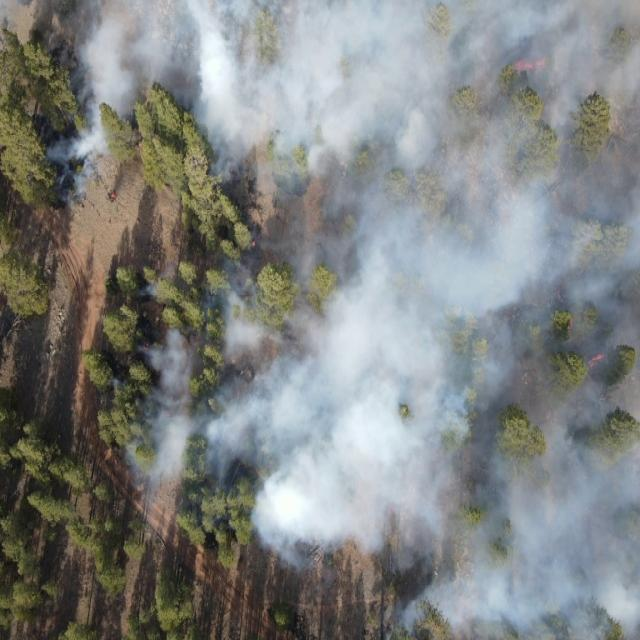fire: (514, 59, 549, 70), (588, 351, 604, 368), (108, 188, 118, 204), (567, 312, 575, 331), (250, 240, 258, 250)
smoke: (381, 0, 640, 640), (248, 183, 380, 572), (212, 1, 380, 183), (120, 316, 208, 502), (51, 0, 210, 81), (208, 259, 246, 510), (46, 120, 106, 204), (170, 80, 212, 130), (84, 82, 142, 118), (131, 270, 167, 298), (107, 376, 121, 394)
